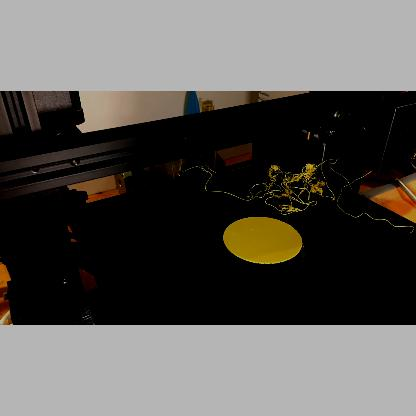fail: (204, 171, 352, 216)
